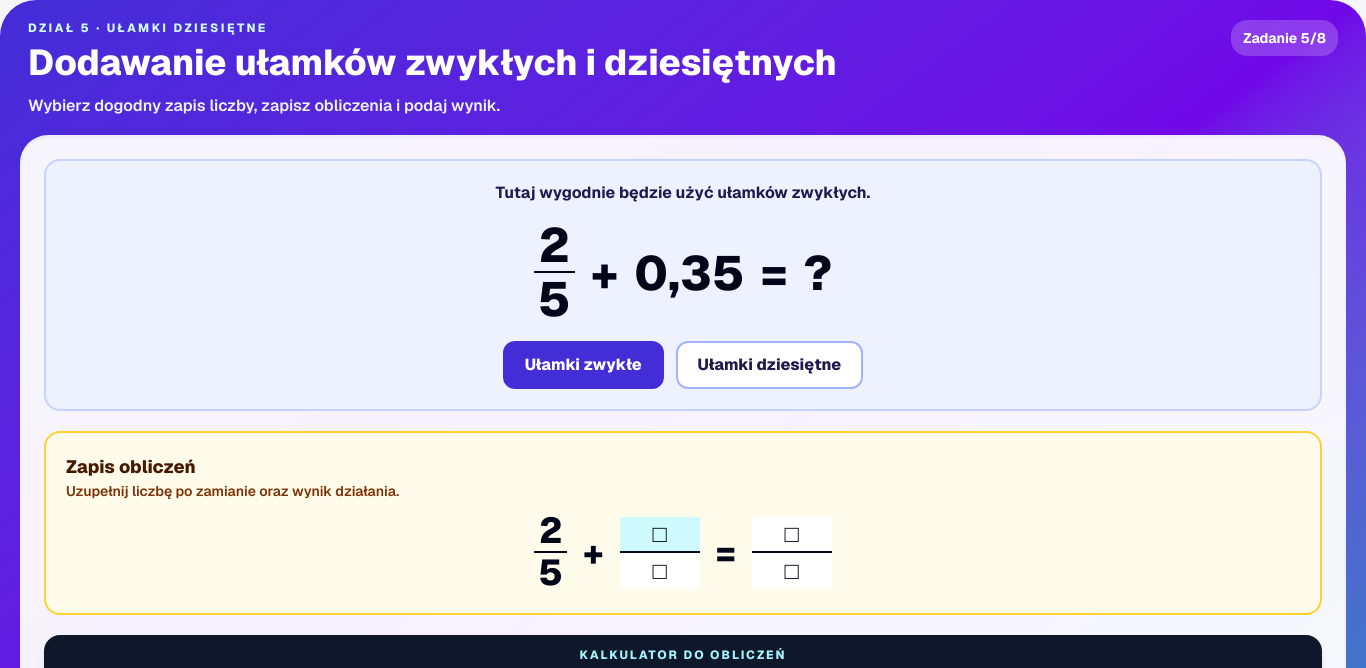
Test: DecimalFractionOperationsLab › pozwala wybrać zapis dziesiętny albo zwykły z miejscem na obliczenia
The width and height of the screenshot is (1366, 668).
Expected: the element labelled "Zapis obliczeń" is shown, [44, 431, 1322, 615]
What coordinates should you click on to do the following:
click the button "Ułamki dziesiętne"
I would click on:
 (769, 365)
Its box is [676, 341, 863, 389].
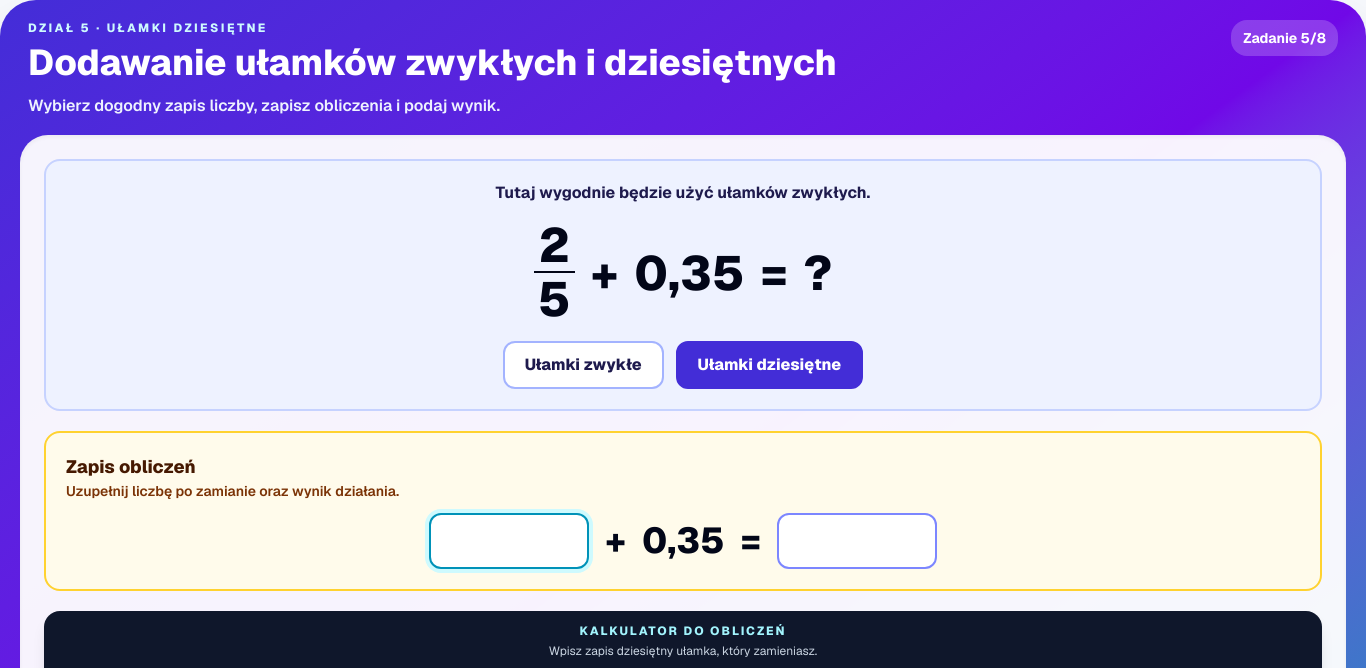
Expected: the field named "Zapis dziesiętny po zamianie" is shown, [429, 513, 589, 569]
